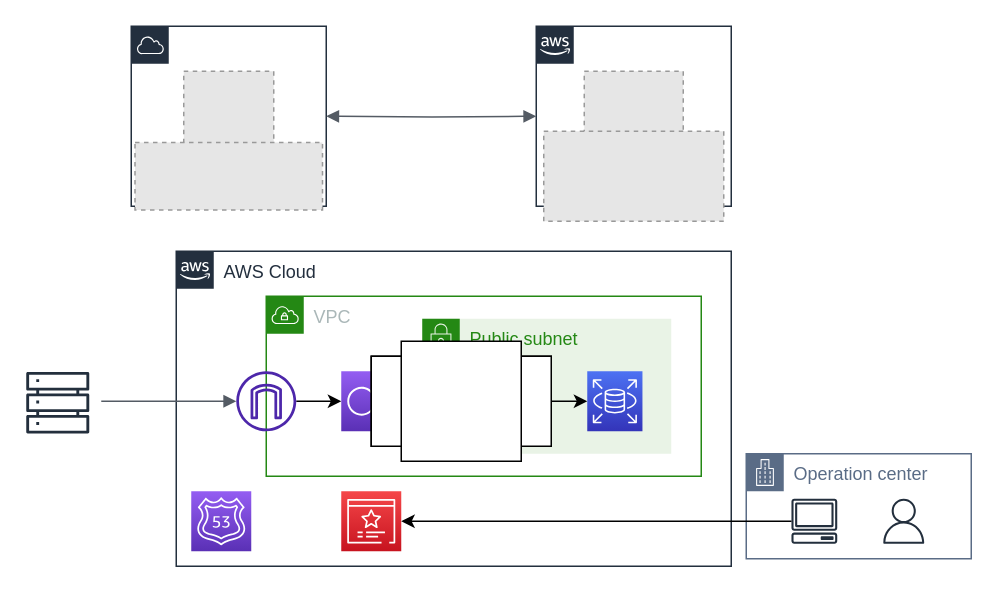
The diagram is 998 pixels wide and 593 high, and some of its shapes have lost their labels. Grey dashed boxes stand in for pictures. The box of each missing label's shape, as (x1, y1, x2, y2) in pixels:
AWS: (535, 25, 731, 206)
Vercel: (130, 25, 326, 206)
